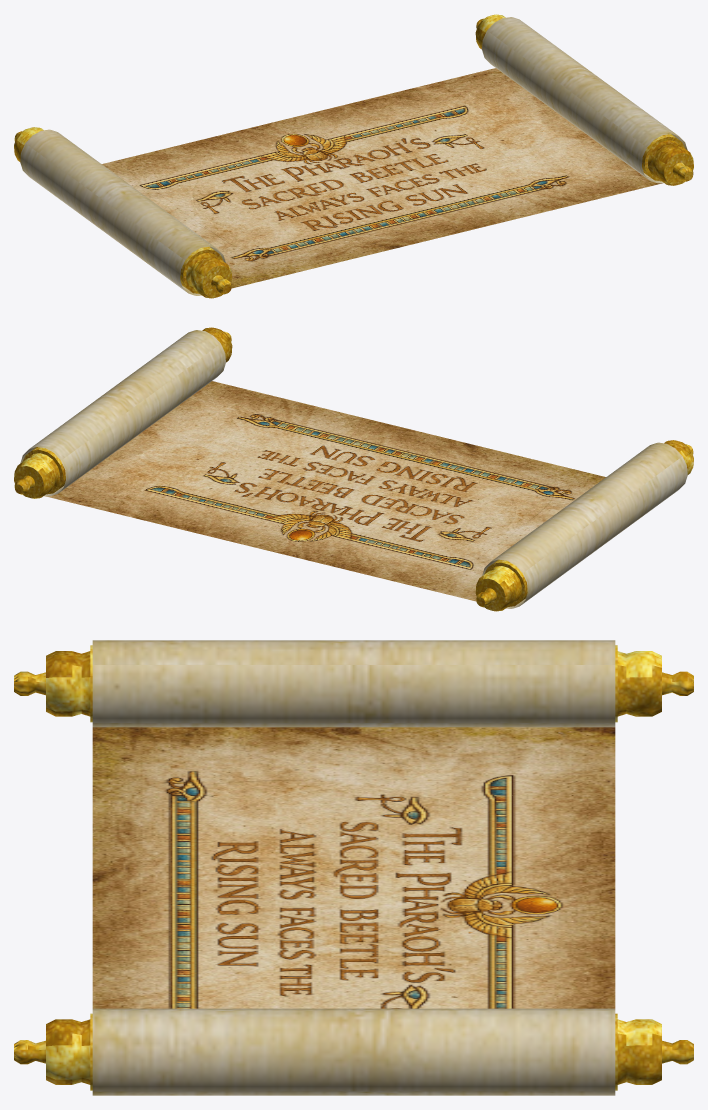
File: Puzzle 1 Scroll.fbx
3 views of the same model, one above another, from view 1: azimuth 30°, elevation 25°; view 2: azimuth 150°, elevation 25°; view 3: azimuth 270°, elevation 25° (orthographic). The views are drawn at different scales.
Visible parts, largest first — view 1: Object_5.001; view 2: Object_5.001; view 3: Object_5.001.
Boxes of the visible parts, left/top/right/bottom form: Object_5.001: left=14, top=14, right=693, bottom=298; Object_5.001: left=14, top=327, right=693, bottom=611; Object_5.001: left=14, top=640, right=693, bottom=1095.
Bounding box in the file's own units: 81.16 × 7.36 × 57.6.
1 material, 1 textured.
